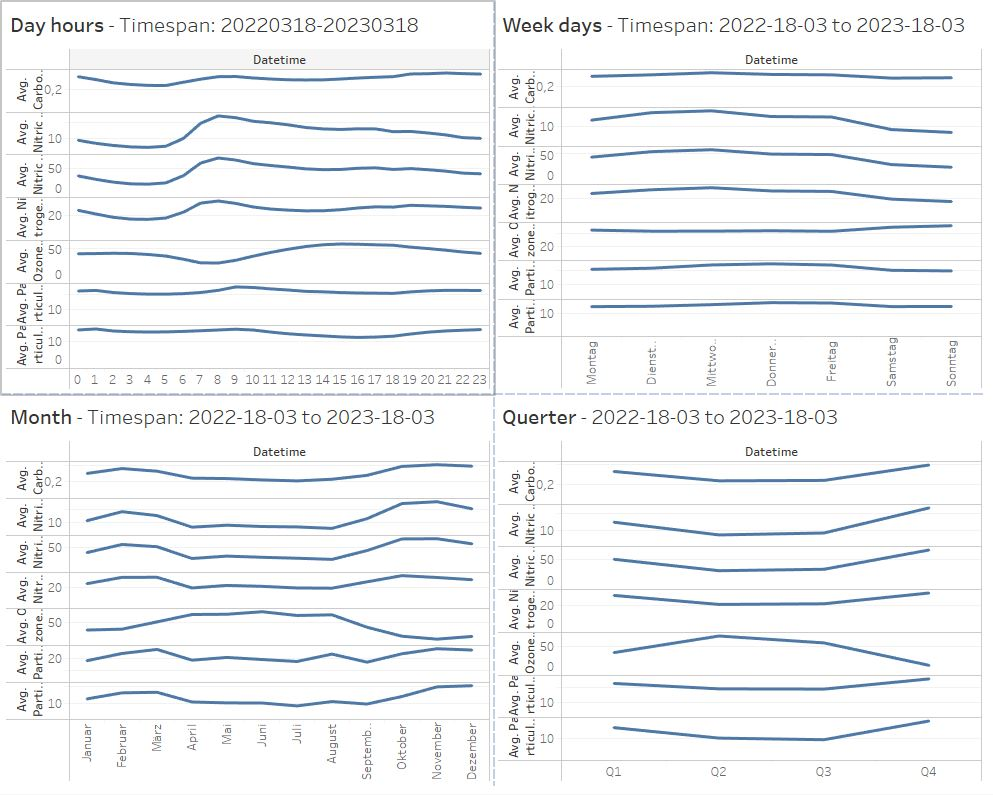

This screenshot's page, from the dashboard's own definition file:
{"tool":"tableau","page":{"name":"Dashboard 1","canvas":[1000,800],"ordinal":0},"visuals":[{"type":"worksheet","title":"Day hours","mark":"Automatic","rows":["carbon_monoxide_mg_per_m3","nitric_oxide_no_µg_per_m3","nitric_oxide_nox_µg_per_m3","nitrogen_dioxide_µg_per_m3","ozone_µg_per_m3","particulate_matter_pm10_µg_per_m3","particulate_matter_pm2_µg_per_m3"],"cols":["datetime"],"box":[8,8,492,392]},{"type":"worksheet","title":"Week days","mark":"Automatic","rows":["carbon_monoxide_mg_per_m3","nitric_oxide_no_µg_per_m3","nitric_oxide_nox_µg_per_m3","nitrogen_dioxide_µg_per_m3","ozone_µg_per_m3","particulate_matter_pm10_µg_per_m3","particulate_matter_pm2_µg_per_m3"],"cols":["datetime"],"box":[500,8,492,392]},{"type":"worksheet","title":"Month","mark":"Automatic","rows":["carbon_monoxide_mg_per_m3","nitric_oxide_no_µg_per_m3","nitric_oxide_nox_µg_per_m3","nitrogen_dioxide_µg_per_m3","ozone_µg_per_m3","particulate_matter_pm10_µg_per_m3","particulate_matter_pm2_µg_per_m3"],"cols":["datetime"],"box":[8,400,492,392]},{"type":"worksheet","title":"Querter","mark":"Automatic","rows":["carbon_monoxide_mg_per_m3","nitric_oxide_no_µg_per_m3","nitric_oxide_nox_µg_per_m3","nitrogen_dioxide_µg_per_m3","ozone_µg_per_m3","particulate_matter_pm10_µg_per_m3","particulate_matter_pm2_µg_per_m3"],"cols":["datetime"],"box":[500,400,492,392]}]}

Visuals, with their boxes in screenshot pixels (x1, y1, x2, y2), scaled from the page's 1000x800 canvas onto the 993x795 screenshot:
"Day hours" worksheet: [8,8,496,398]
"Week days" worksheet: [496,8,985,398]
"Month" worksheet: [8,398,496,787]
"Querter" worksheet: [496,398,985,787]
